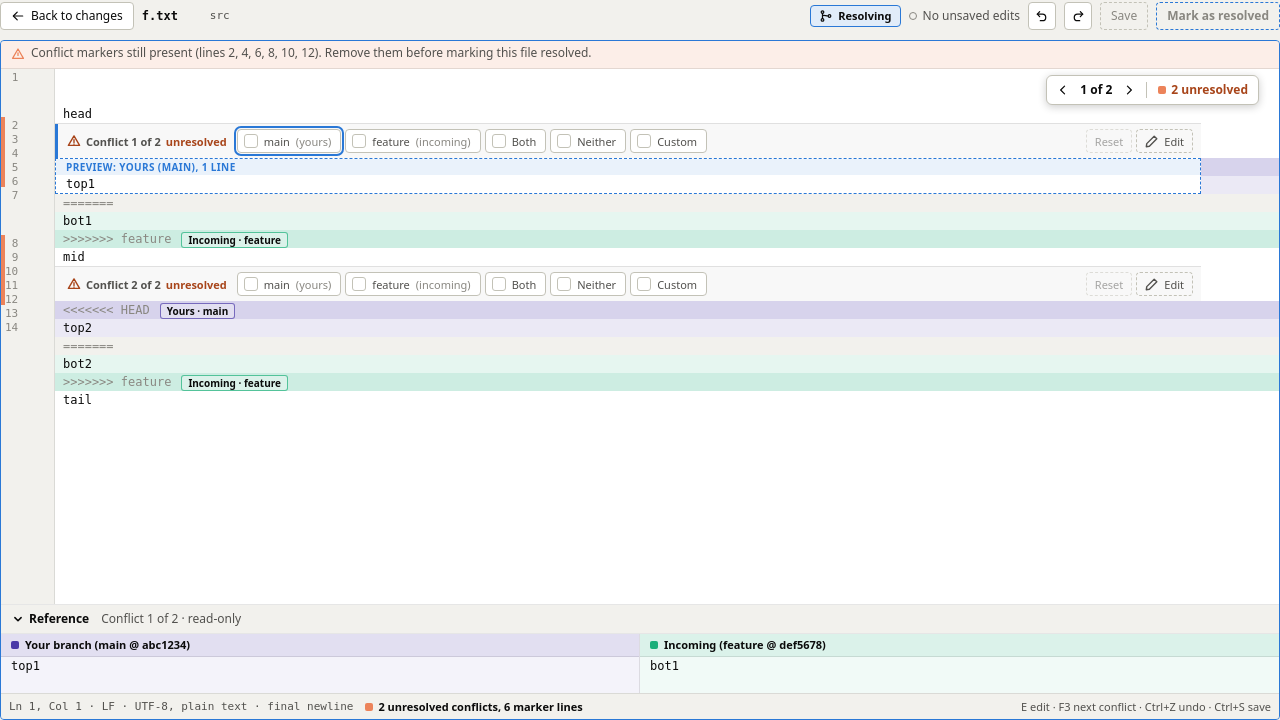
read-only first (FR-593..FR-600) › Esc steps back: block text, chip row, Resolving (dirty or not), then Esc asks only because the buffer is dirty
Step 1. Click the 1st button "main (yours)" → (289, 141), box [237,129,341,153]
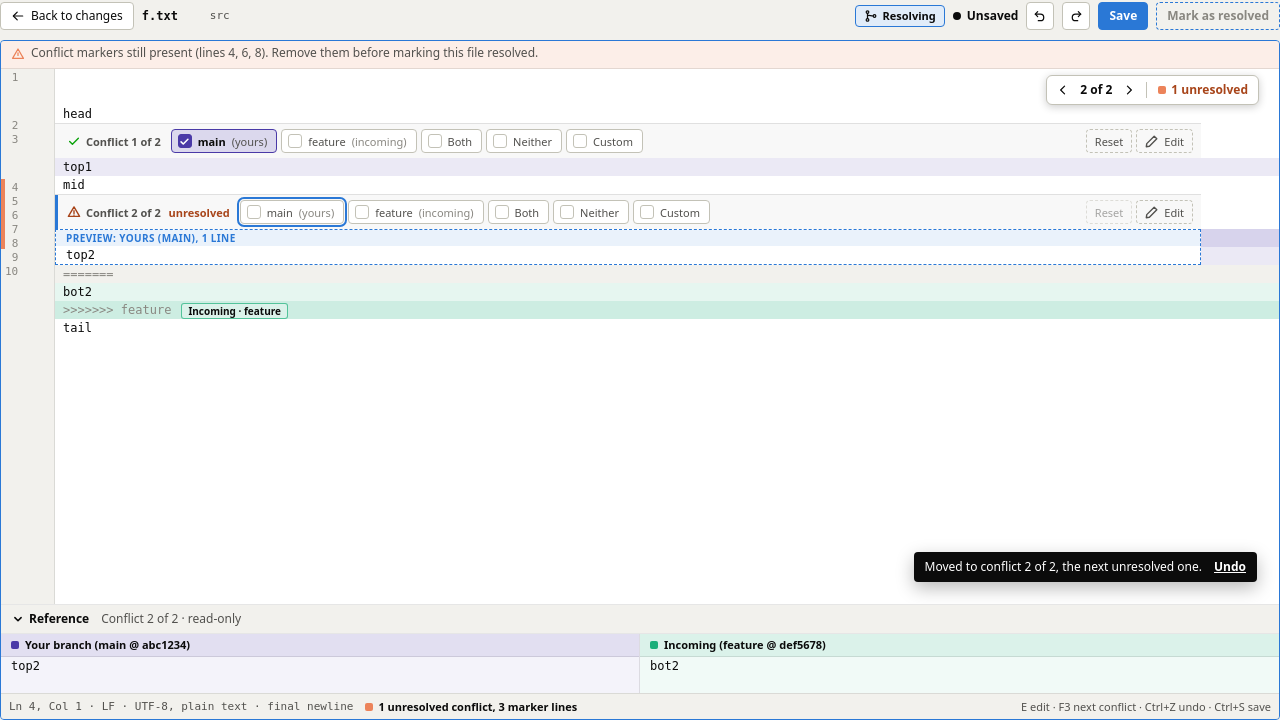
Step 2. Click the 2nd button "feature (incoming)" → (416, 212), box [348,200,484,224]
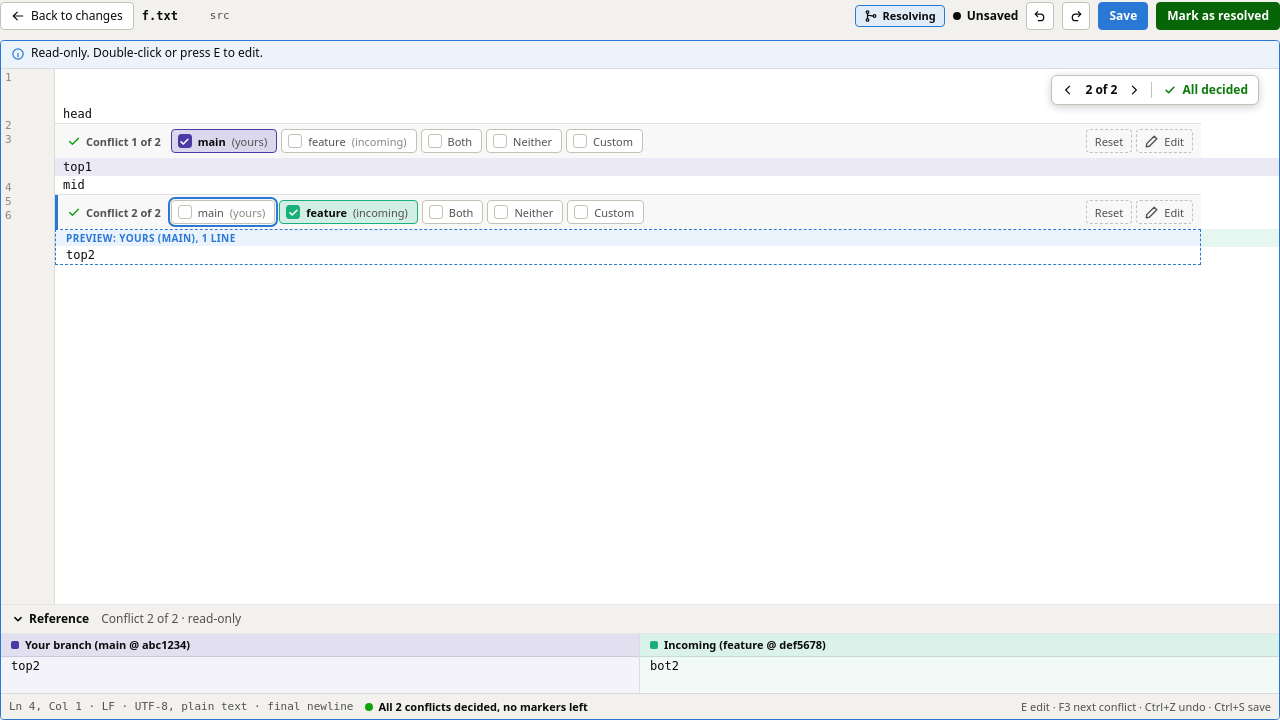
Step 3. Press e in the button "main (yours)" next to "Conflict 1 of 2", box [171,129,277,153]
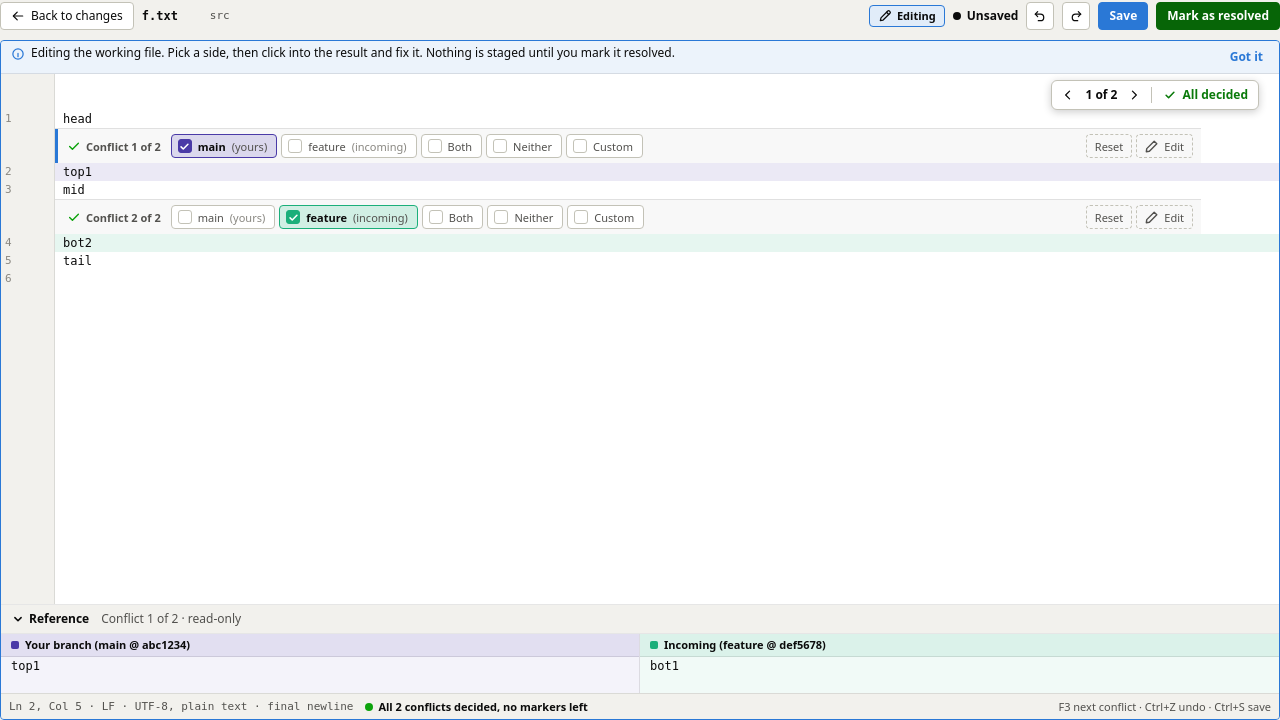
Step 4. Press Escape in the field named "Editing src/f.txt", box [55,112,1279,268]
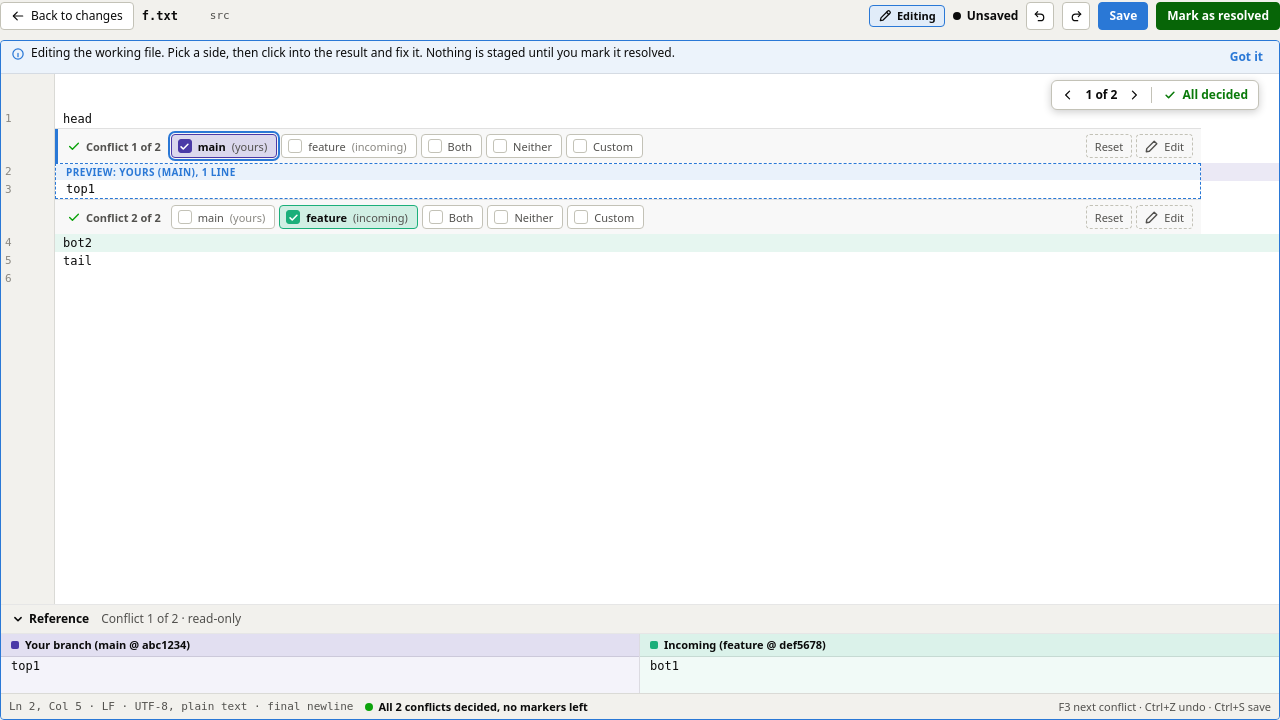
Step 5. Press Escape in the 1st button "main (yours)", box [171,134,277,158]
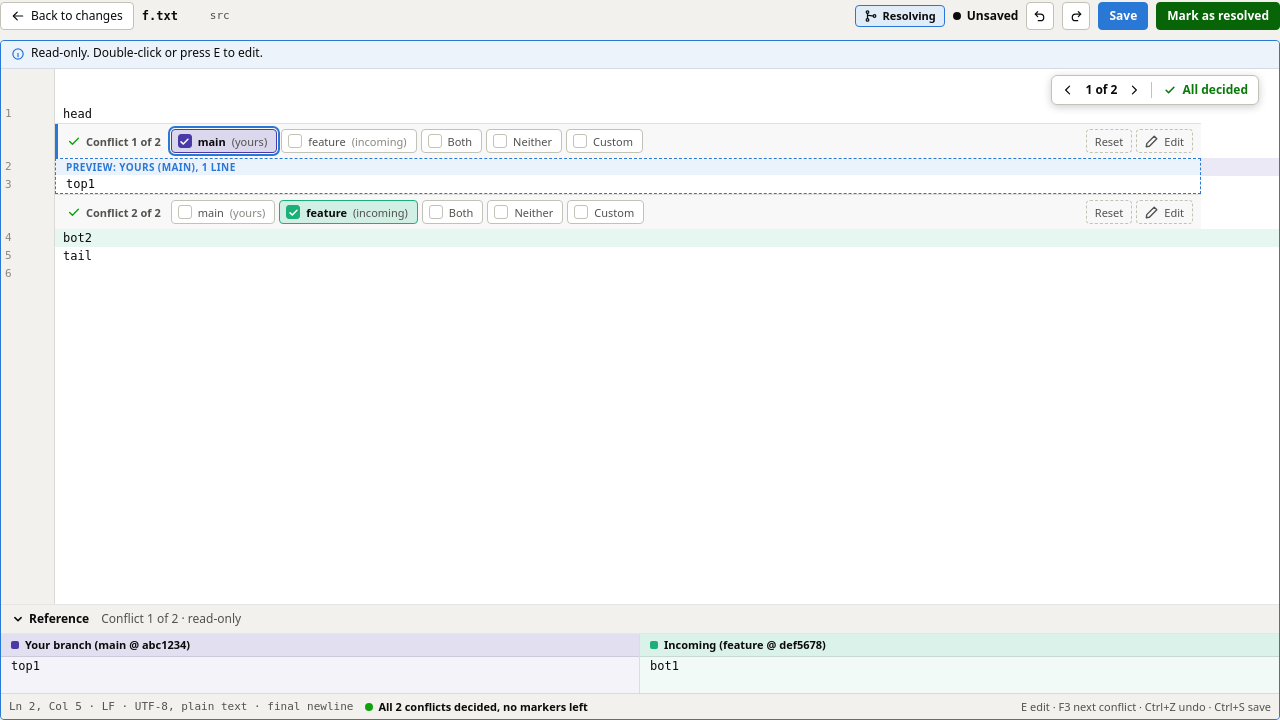
expect the element with test id "editor-slot" reads "Read-only. Double-click or press E to edit.": met, box [31,44,263,61]
Step 6. Press Escape in the 1st button "main (yours)", box [171,129,277,153]
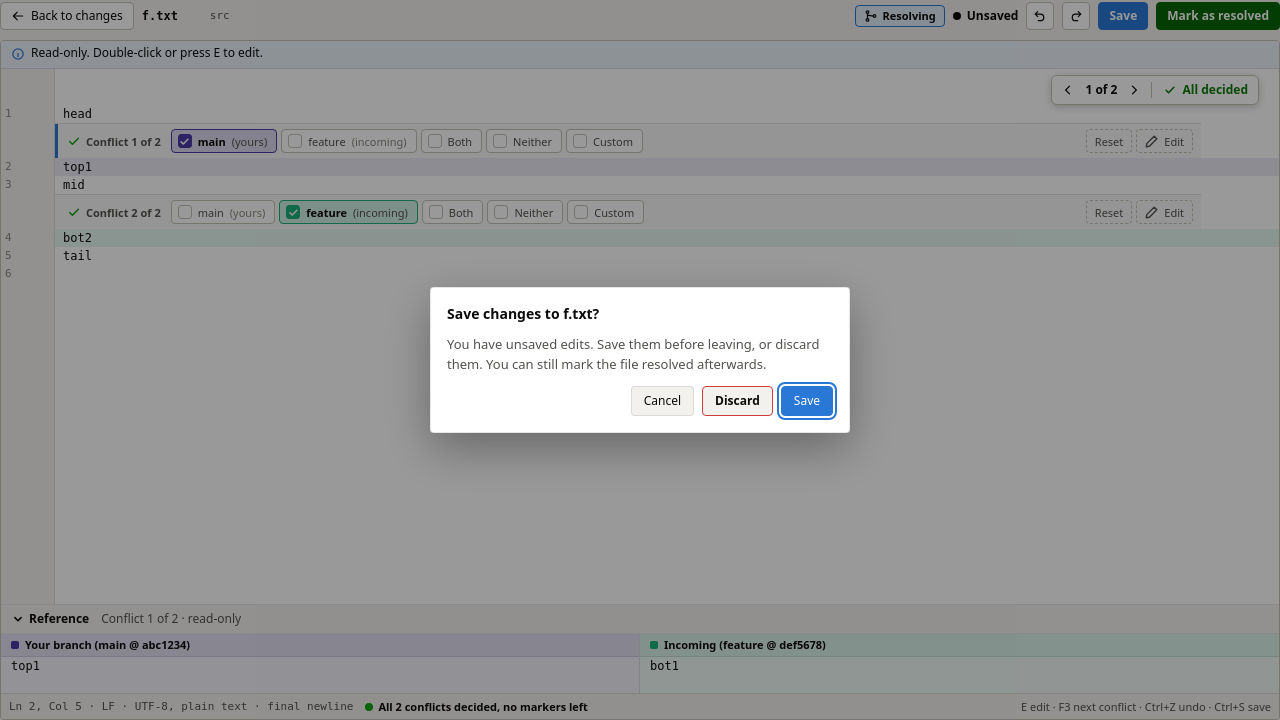
expect the dialog shows "Save changes to f.txt?": met, box [447,304,599,323]
